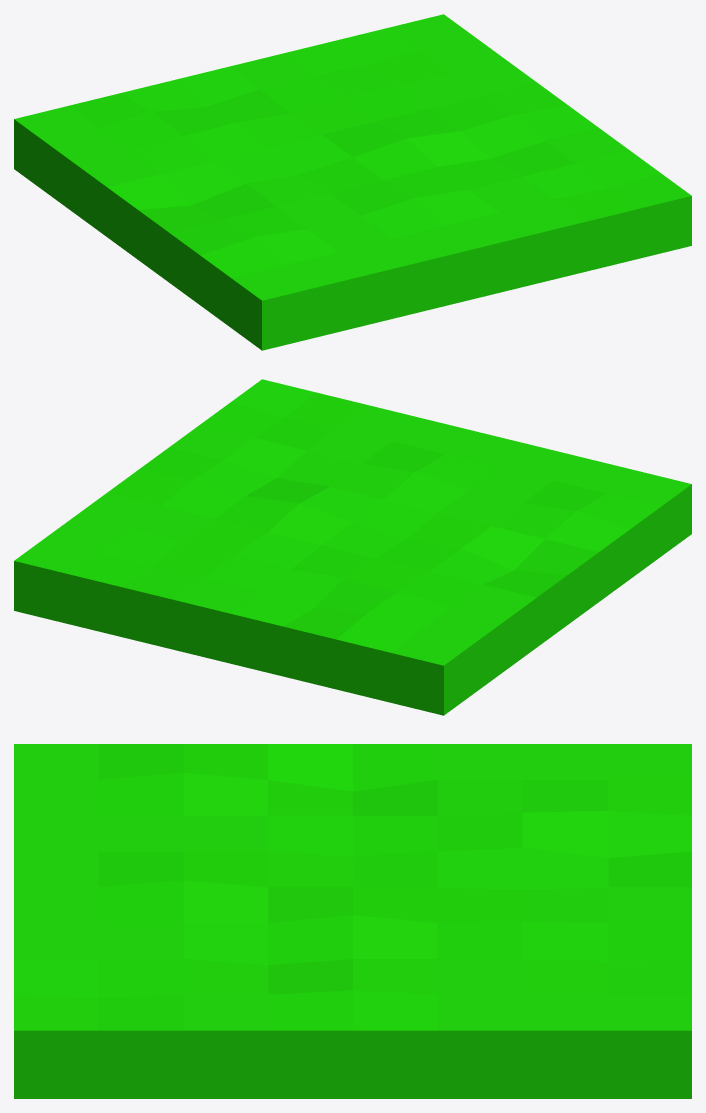
The model's file is groundtest.fbx.
3 renders of one model, top to bottom at view 1: azimuth 30°, elevation 25°; view 2: azimuth 150°, elevation 25°; view 3: azimuth 270°, elevation 25°, orthographic. The views are drawn at different scales.
Parts seen in each view (by area): view 1: Cube; view 2: Cube; view 3: Cube.
Part boxes in pixels (x1=…): Cube: x1=14, y1=14, x2=691, y2=350; Cube: x1=14, y1=379, x2=691, y2=715; Cube: x1=14, y1=744, x2=691, y2=1098.
Size of the model in its own units: 3600 by 447 by 3600.
